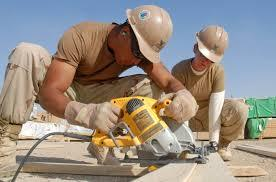gloves: (65, 100, 125, 131), (161, 89, 198, 122)
